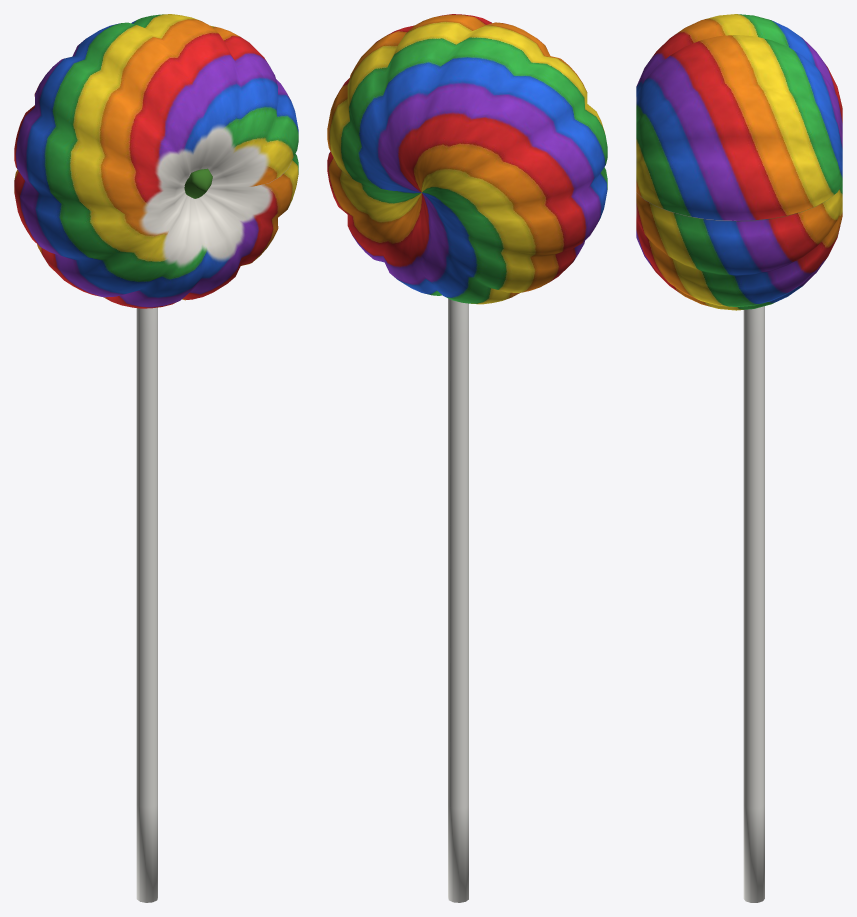
Rendered from lollipop.glb.
The picture shows the model from 3 angles, left to right: view 1: azimuth 30°, elevation 25°; view 2: azimuth 150°, elevation 25°; view 3: azimuth 270°, elevation 25°; orthographic projection.
Visible parts, largest first — view 1: lollipop; view 2: lollipop; view 3: lollipop.
Boxes of the visible parts, left/top/right/bottom form: lollipop: left=14, top=14, right=298, bottom=902; lollipop: left=327, top=14, right=607, bottom=902; lollipop: left=636, top=14, right=842, bottom=902.
Bounding box in the file's own units: 0.4907 × 1.61 × 0.3449.
1 material, 1 textured.
